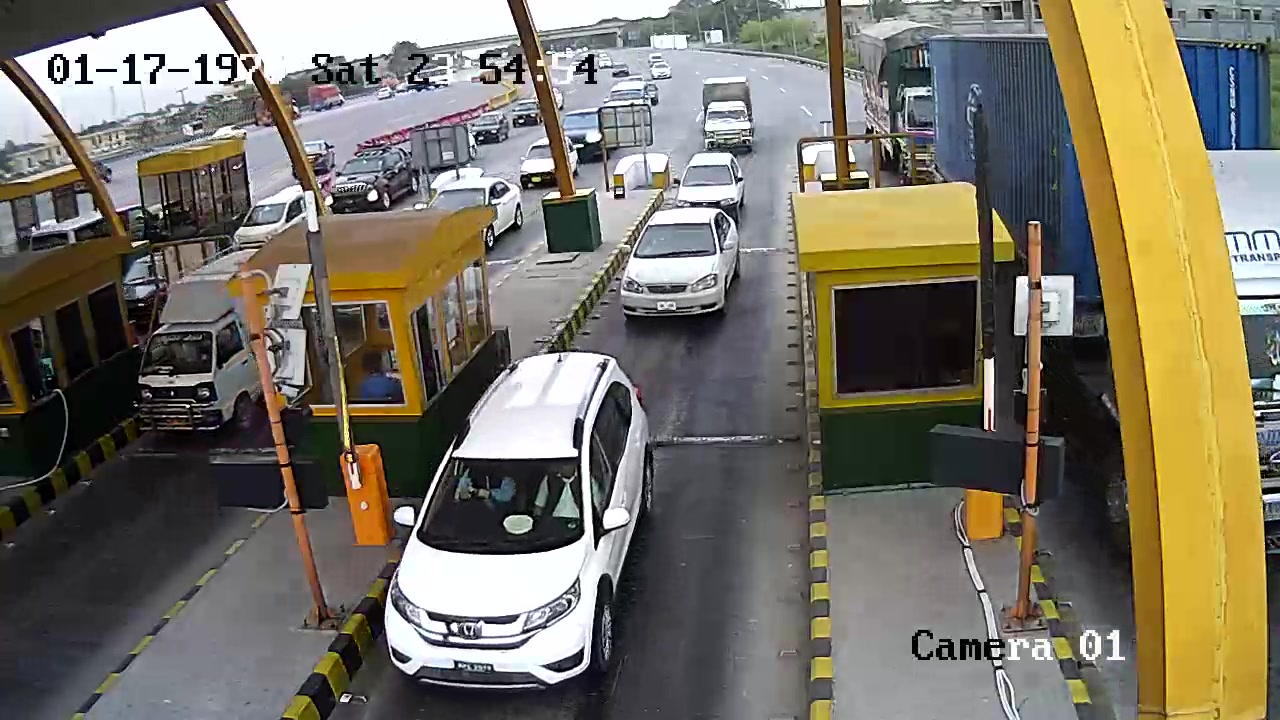F1: (377, 346, 670, 687)
